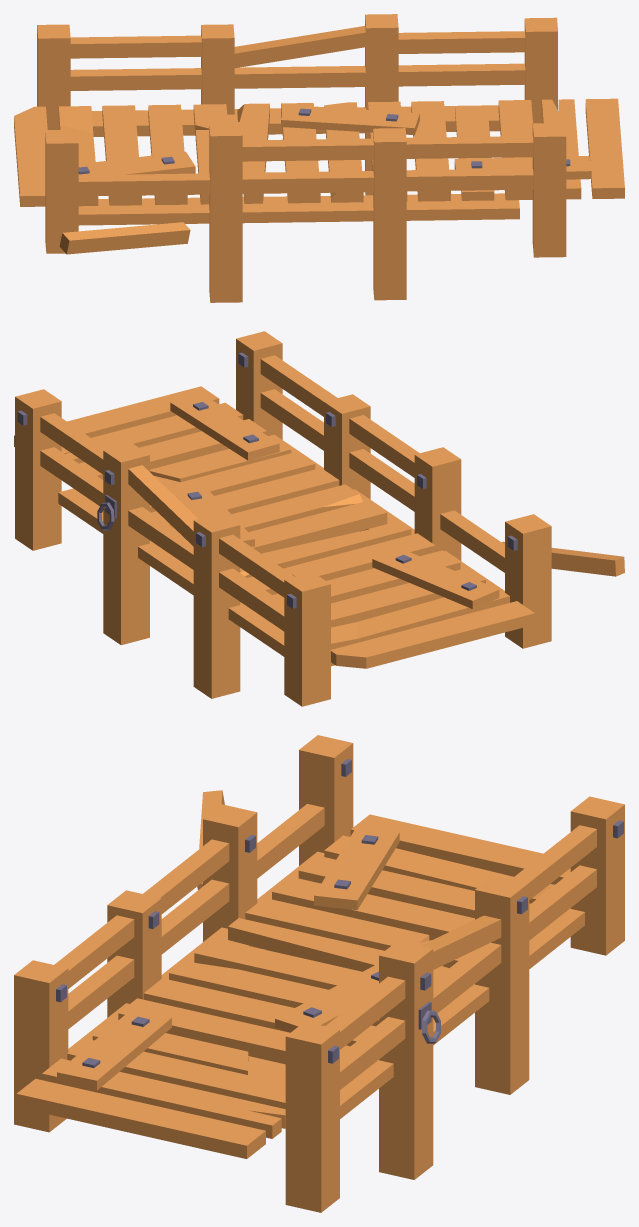
The model's file is bridge.glb.
The picture shows the model from 3 angles, top to bottom: view 1: azimuth 30°, elevation 25°; view 2: azimuth 150°, elevation 25°; view 3: azimuth 270°, elevation 25°; orthographic projection. The views are drawn at different scales.
Parts seen in each view (by area): view 1: bridgePhysicalFixed; view 2: bridgePhysicalFixed; view 3: bridgePhysicalFixed.
Part boxes in pixels (bbox=[...]): bridgePhysicalFixed: bbox=[14, 14, 624, 302]; bridgePhysicalFixed: bbox=[14, 331, 624, 706]; bridgePhysicalFixed: bbox=[14, 735, 624, 1212].
Bounding box in the file's own units: 11.04 × 3.25 × 8.3.
1 material, 1 textured.
